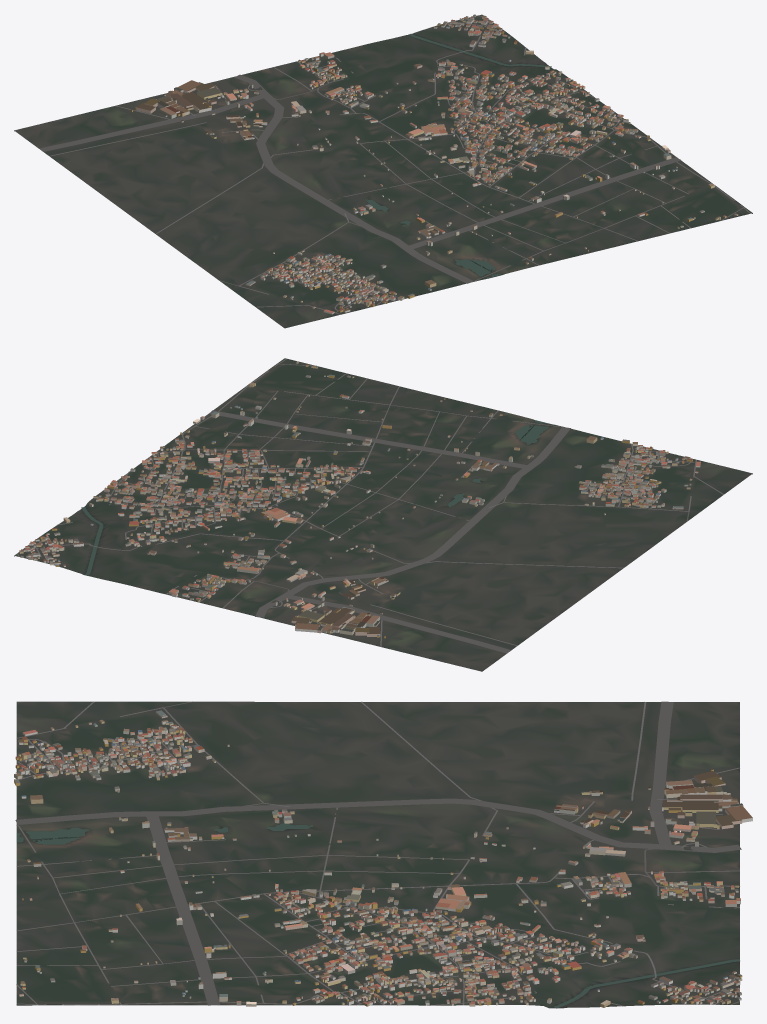
The picture shows the model from 3 angles, top to bottom: view 1: azimuth 30°, elevation 25°; view 2: azimuth 150°, elevation 25°; view 3: azimuth 270°, elevation 25°; orthographic projection. The views are drawn at different scales.
Visible parts, largest first — view 1: ground, buildings, roads, water; view 2: ground, buildings, roads, water; view 3: ground, buildings, roads, water.
Boxes of the visible parts, x1=… form: ground: x1=14, y1=14, x2=752, y2=328; buildings: x1=130, y1=14, x2=738, y2=314; roads: x1=39, y1=15, x2=750, y2=314; water: x1=365, y1=33, x2=551, y2=278; ground: x1=14, y1=358, x2=752, y2=671; buildings: x1=19, y1=361, x2=700, y2=638; roads: x1=17, y1=358, x2=723, y2=653; water: x1=81, y1=420, x2=549, y2=575; ground: x1=16, y1=701, x2=739, y2=1008; buildings: x1=14, y1=710, x2=752, y2=1007; roads: x1=15, y1=701, x2=741, y2=1006; water: x1=17, y1=823, x2=739, y2=1008.
Bounding box in the file's own units: 1407 × 19.27 × 1432.
